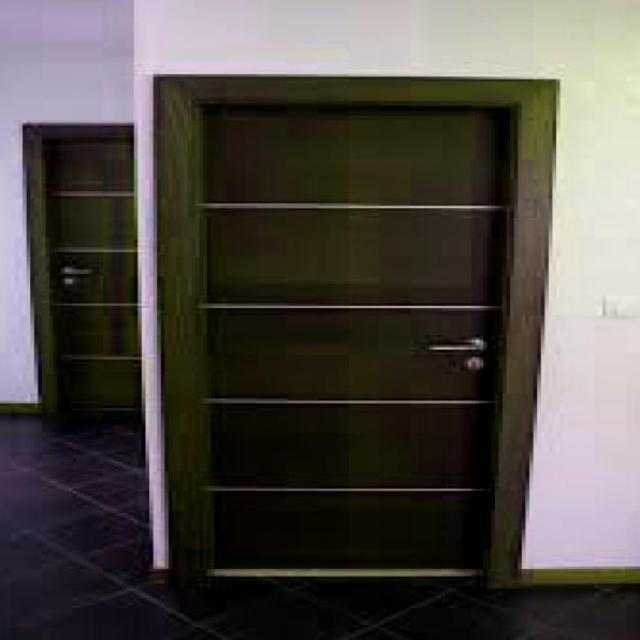door: (156, 77, 525, 587), (41, 132, 145, 408)
